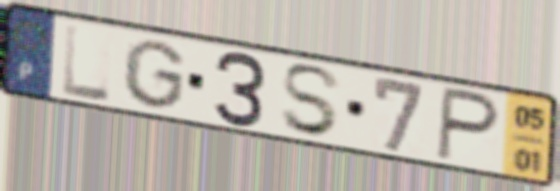3: (209, 48, 270, 130)
7: (370, 72, 428, 156)
G: (120, 37, 189, 112)
L: (61, 21, 114, 105)
P: (433, 83, 503, 166)
S: (278, 62, 346, 139)
